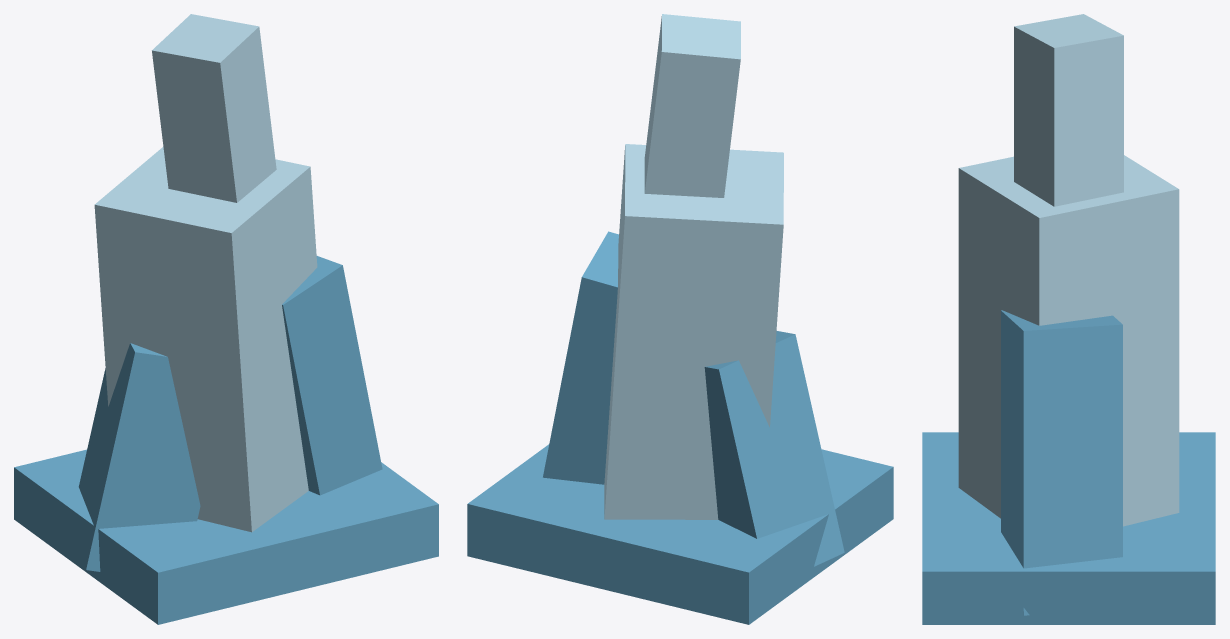
The model's file is ice_spike.gltf.
3 views of the same model, side by side, from view 1: azimuth 30°, elevation 25°; view 2: azimuth 150°, elevation 25°; view 3: azimuth 270°, elevation 25° (orthographic).
Visible parts, largest first — view 1: shard_main, base_ice, shard_tip, shard_l, shard_r; view 2: shard_main, base_ice, shard_l, shard_tip, shard_r; view 3: shard_main, base_ice, shard_r, shard_tip.
Part boxes in pixels (x1,y1,x2,y2): shard_main: (94,147,317,532); base_ice: (14,449,438,624); shard_tip: (152,14,276,202); shard_l: (78,343,200,571); shard_r: (282,256,382,495); shard_main: (604,144,783,519); base_ice: (467,444,893,624); shard_l: (704,331,844,566); shard_tip: (644,14,740,197); shard_r: (543,231,618,484); shard_main: (958,155,1179,526); base_ice: (922,432,1215,624); shard_r: (1001,310,1122,615); shard_tip: (1014,14,1123,206).
Bounding box in the file's own units: 0.5887 × 1.01 × 0.5.
2 materials, 2 textured.
